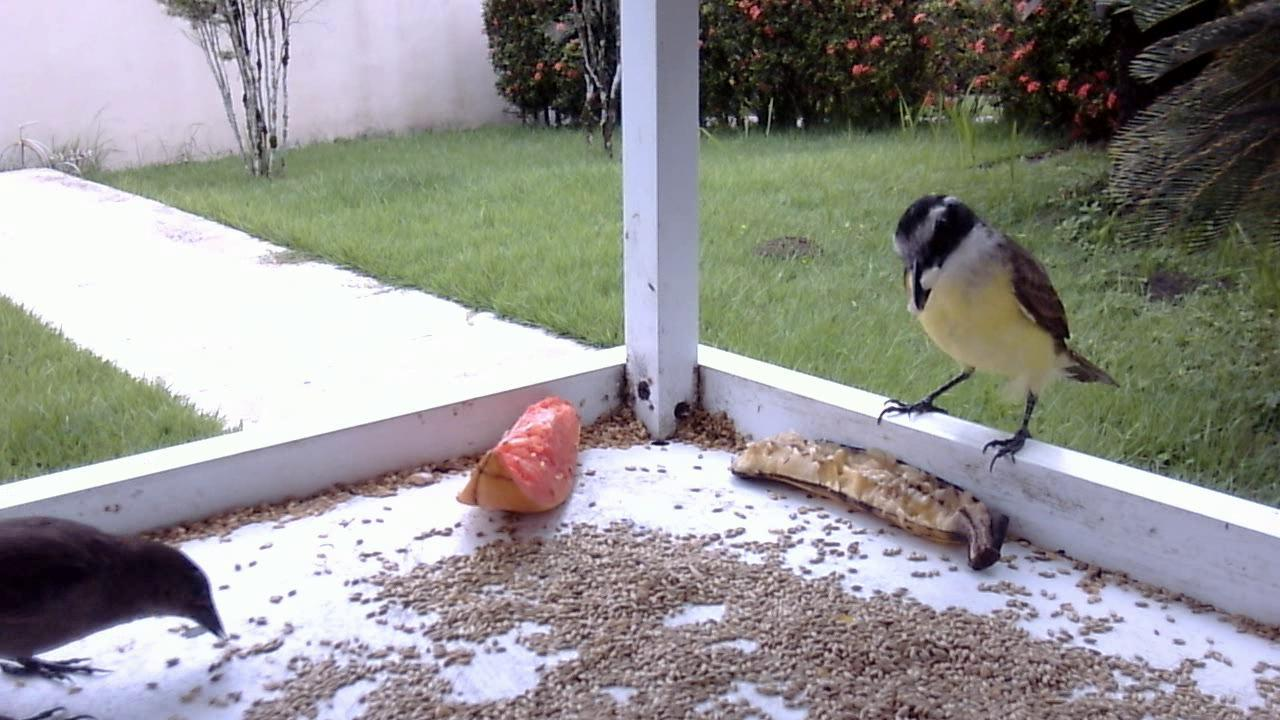bem_te_vi: (867, 184, 1124, 497)
chupim: (1, 502, 240, 720)
